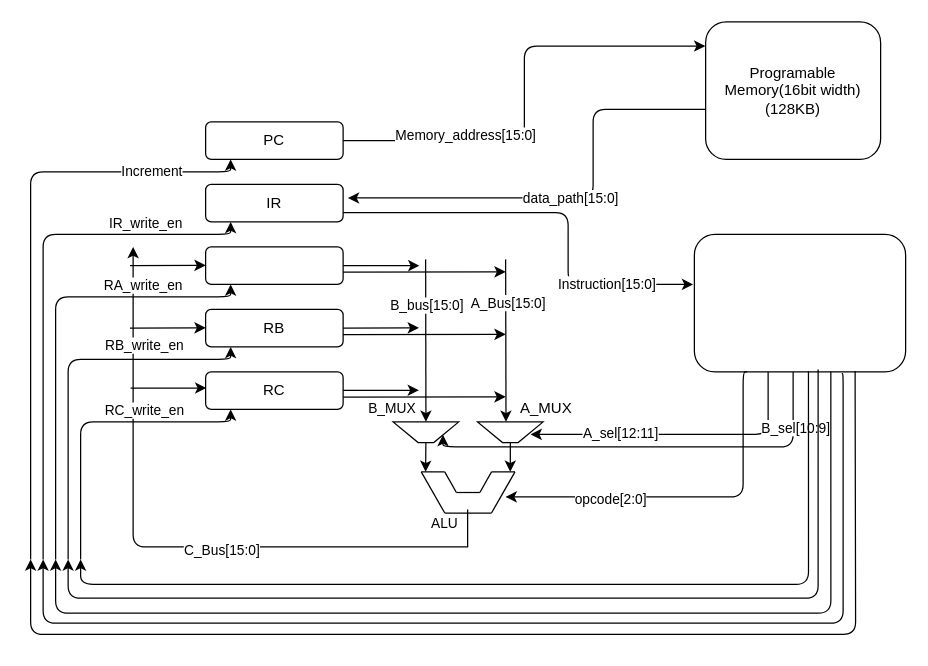
Image size: 928x666. Some labels were removed from this diagram. Here are the shapes that lost their labels. From the top down, the centre of each, then its label:
(273,265): RA
(799,302): Control Unit(width of 16bit )
